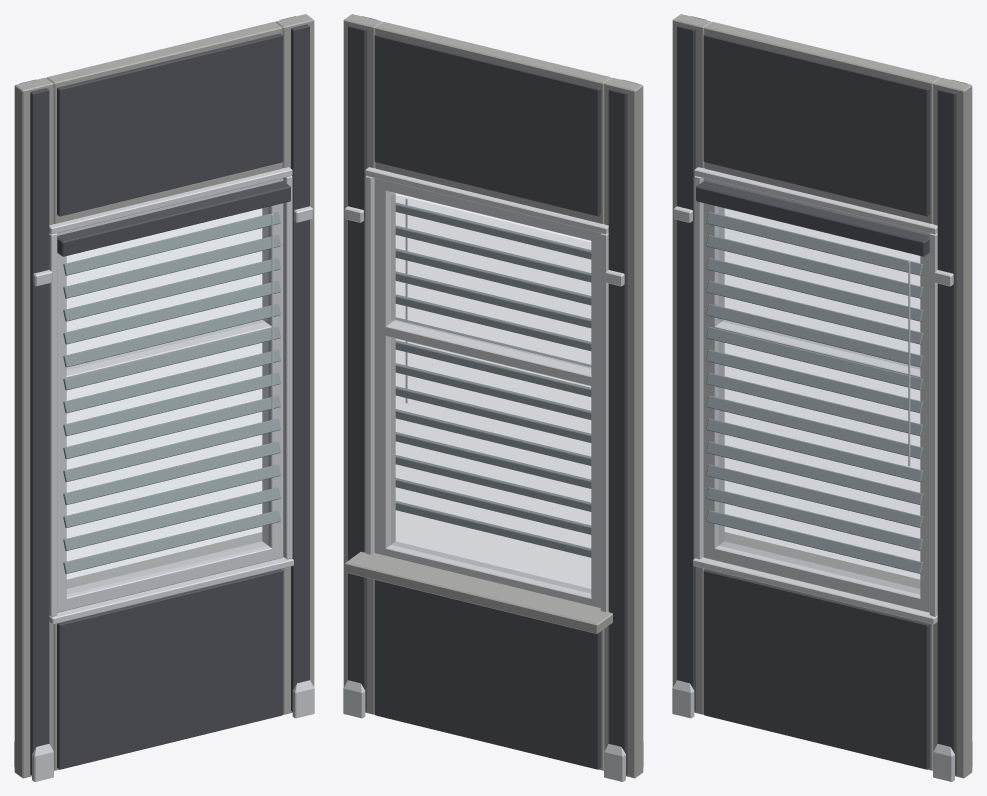
Rendered from cyberpunk-apartment-and-neon-block-window-wall-module--7e0d5d2c__37790.glb.
3 renders of one model, left to right at view 1: azimuth 30°, elevation 25°; view 2: azimuth 150°, elevation 25°; view 3: azimuth 330°, elevation 25°, orthographic.
Visible parts, largest first — view 1: window-wall-module-with-blinds; view 2: window-wall-module-with-blinds; view 3: window-wall-module-with-blinds.
Part boxes in pixels (bbox=[...]): window-wall-module-with-blinds: bbox=[14, 14, 314, 781]; window-wall-module-with-blinds: bbox=[343, 14, 643, 781]; window-wall-module-with-blinds: bbox=[672, 14, 972, 781].
Bounding box in the file's own units: 1.2 × 2.7 × 0.2499.
